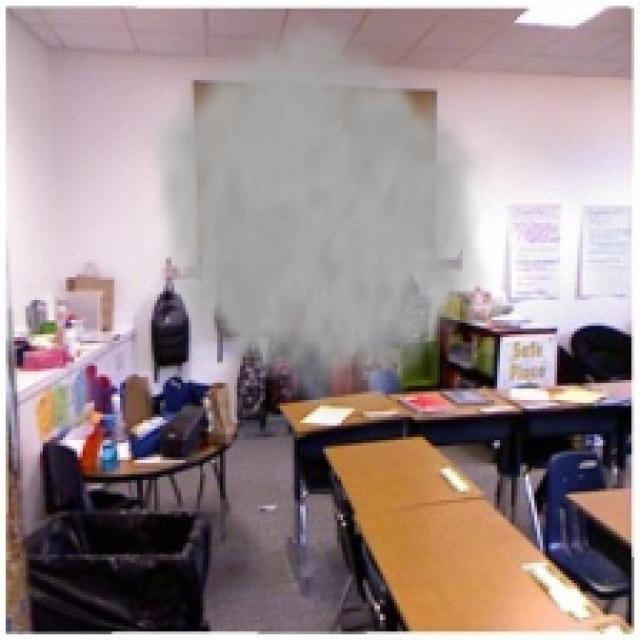smoke: (134, 6, 492, 428)
